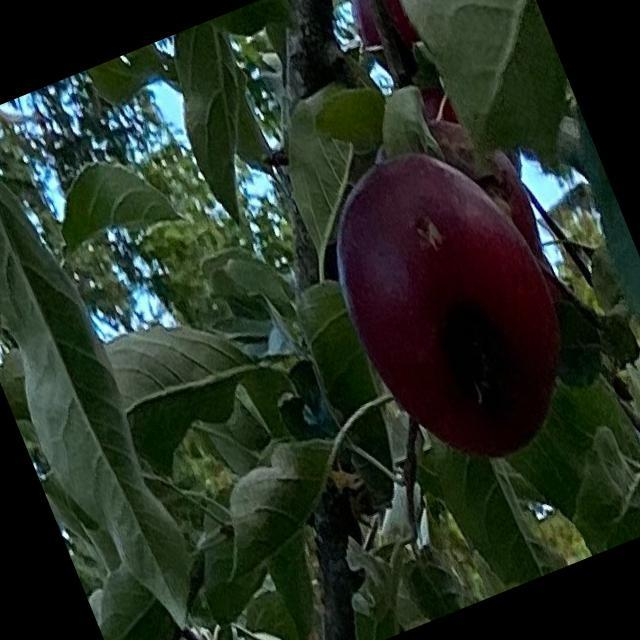100-_ripeness: (302, 120, 598, 488), (424, 92, 552, 276), (331, 0, 429, 83)
